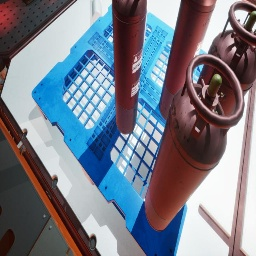0: (200, 0, 218, 50), (92, 0, 102, 23), (144, 0, 149, 42)
FirstAidBox ,: (219, 32, 222, 34)
NitrogenTank ,: (145, 53, 245, 231), (159, 0, 217, 121), (197, 1, 256, 116), (112, 0, 147, 135)
